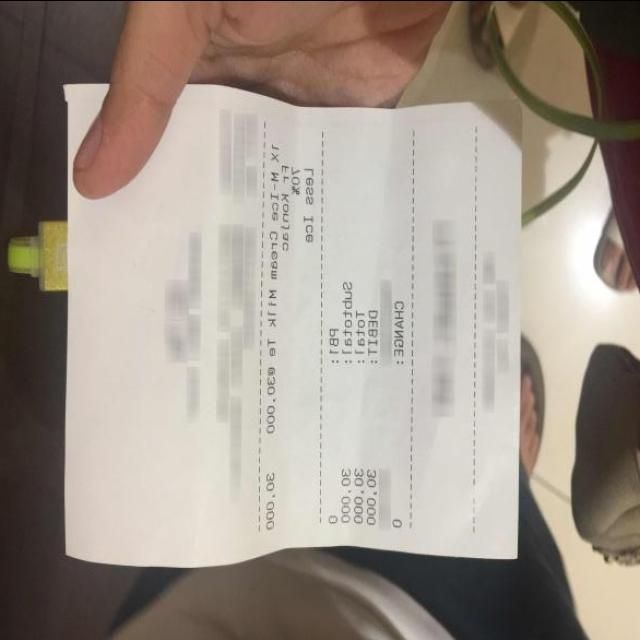kertas: (64, 82, 522, 569)
